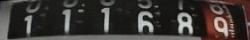digits: (14, 0, 49, 40), (55, 2, 84, 40), (136, 10, 154, 32), (176, 12, 192, 33), (212, 16, 228, 35), (100, 7, 110, 30)
